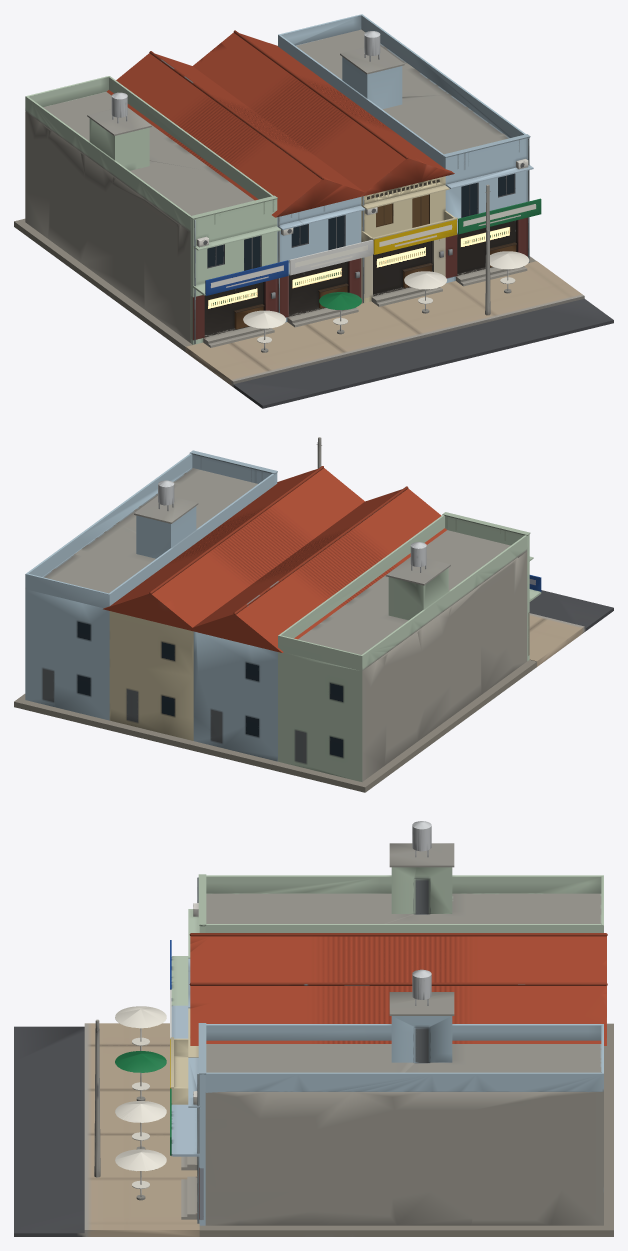
Rendered from quang_trung_12_18.mid.glb.
3 renders of one model, top to bottom at view 1: azimuth 30°, elevation 25°; view 2: azimuth 150°, elevation 25°; view 3: azimuth 270°, elevation 25°, orthographic. The views are drawn at different scales.
Visible parts, largest first — view 1: quang_trung_12_18; view 2: quang_trung_12_18; view 3: quang_trung_12_18.
Part boxes in pixels (left/top/right/bottom): quang_trung_12_18: left=14, top=14, right=613, bottom=408; quang_trung_12_18: left=14, top=437, right=613, bottom=792; quang_trung_12_18: left=14, top=821, right=613, bottom=1236.
Bounding box in the file's own units: 24.2 × 12.19 × 29.68.
13 materials, 13 textured.
